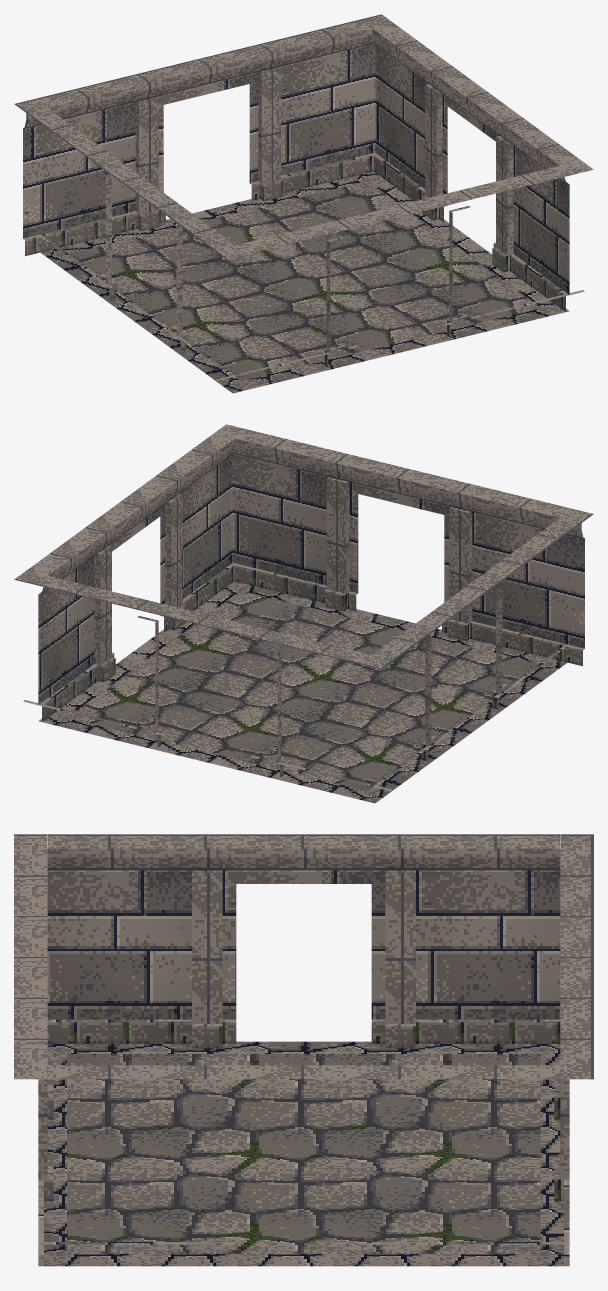
The model's file is dgn.room__hub.glb.
The picture shows the model from 3 angles, top to bottom: view 1: azimuth 30°, elevation 25°; view 2: azimuth 150°, elevation 25°; view 3: azimuth 270°, elevation 25°; orthographic projection. The views are drawn at different scales.
Parts seen in each view (by area): view 1: kit_shell_walls, kit_shell_floor; view 2: kit_shell_walls, kit_shell_floor; view 3: kit_shell_walls, kit_shell_floor.
Boxes of the visible parts, box(x1,y1,x2,y2) form: kit_shell_walls: box(14, 14, 593, 380); kit_shell_floor: box(40, 171, 569, 393); kit_shell_walls: box(14, 424, 593, 790); kit_shell_floor: box(38, 581, 567, 803); kit_shell_walls: box(14, 834, 593, 1254); kit_shell_floor: box(38, 1041, 569, 1266).
Size of the model in its own units: 12 by 4.5 by 12.
5 materials, 5 textured.
